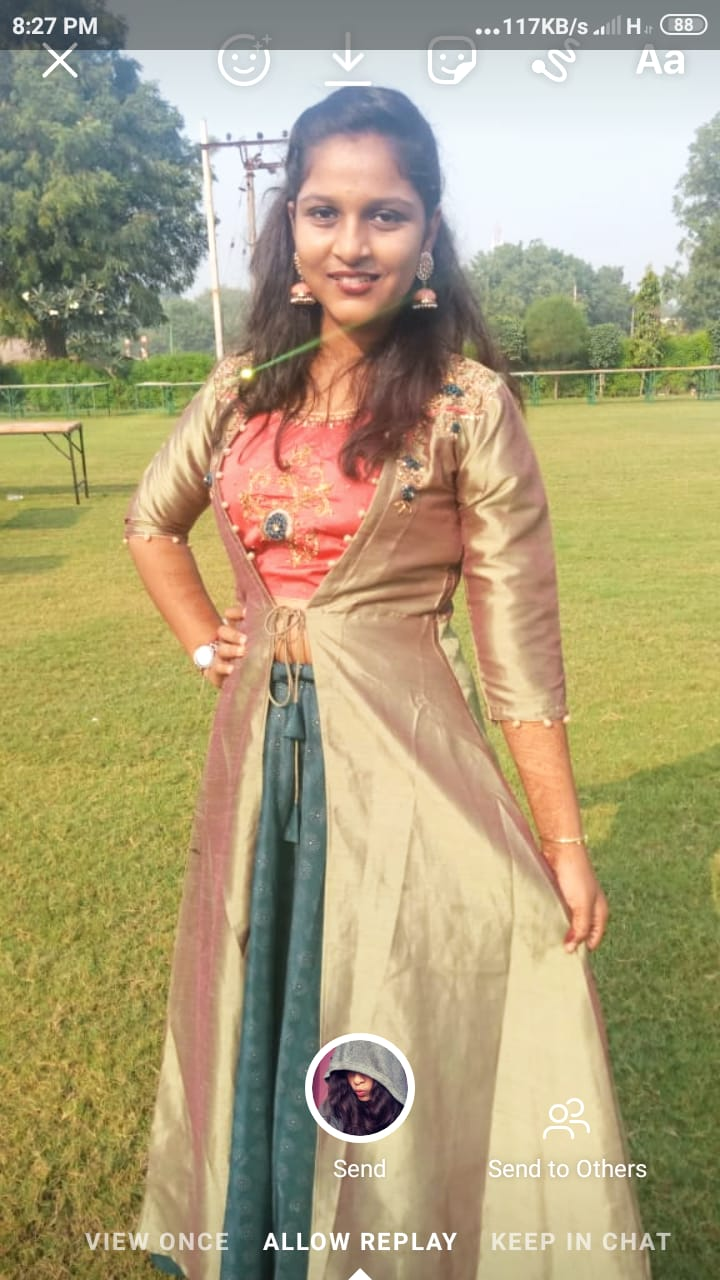face: (294, 127, 429, 324)
